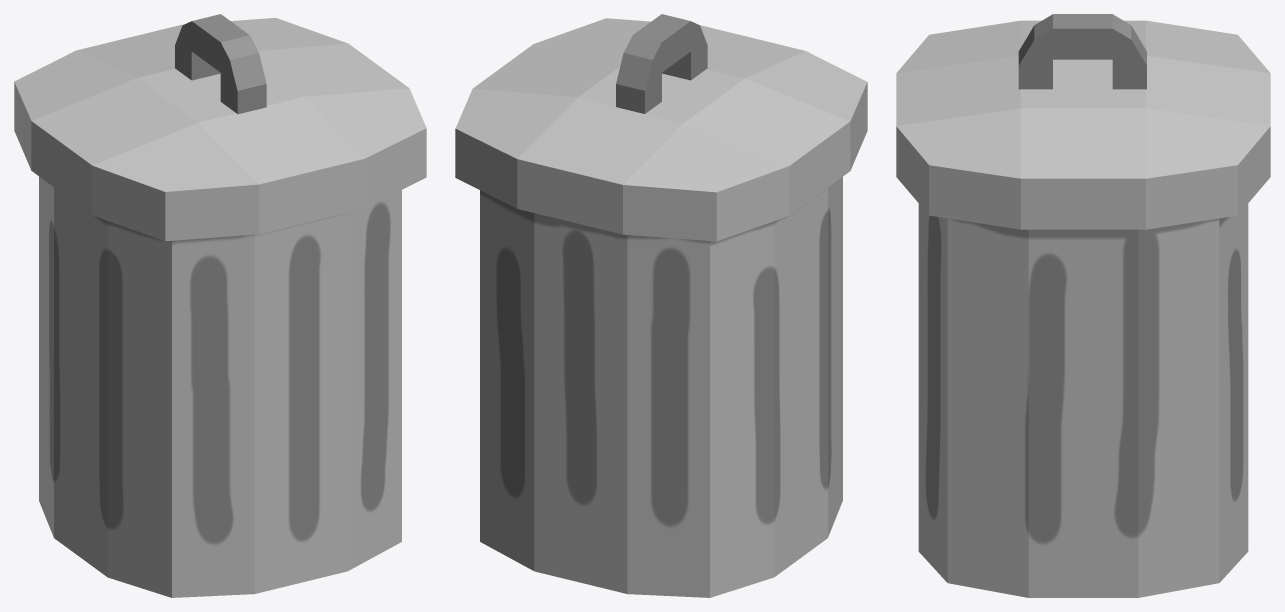
The model's file is Trashcan.fbx.
3 renders of one model, left to right at view 1: azimuth 30°, elevation 25°; view 2: azimuth 150°, elevation 25°; view 3: azimuth 270°, elevation 25°, orthographic. The views are drawn at different scales.
Parts seen in each view (by area): view 1: Cube; view 2: Cube; view 3: Cube.
Part boxes in pixels (x1,y1,x2,y2): Cube: (14,14,426,597); Cube: (455,14,867,597); Cube: (896,14,1270,597).
Bounding box in the file's own units: 227 × 339 × 227.
Materials: 1 (1 with a texture image).
